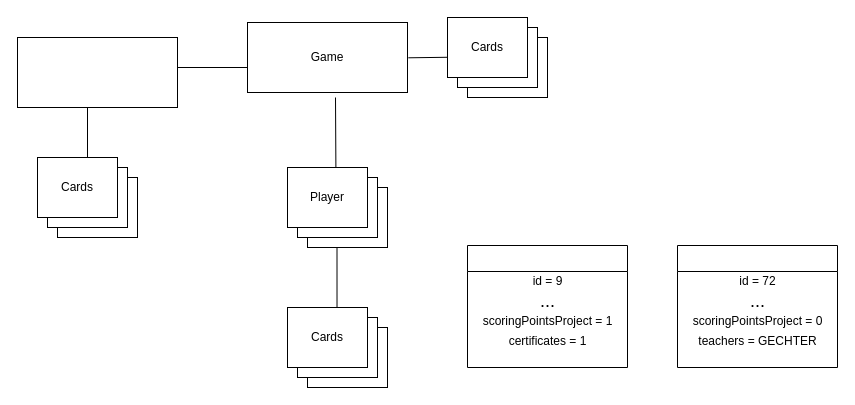
Some shapes in this 855 by 405 pixel diagram are drawn without their labels. Each missing label, with the box of its shape:
Board: (16, 36, 178, 108)
CardCertificate: (466, 244, 628, 368)
CardTeachers: (676, 244, 838, 368)
